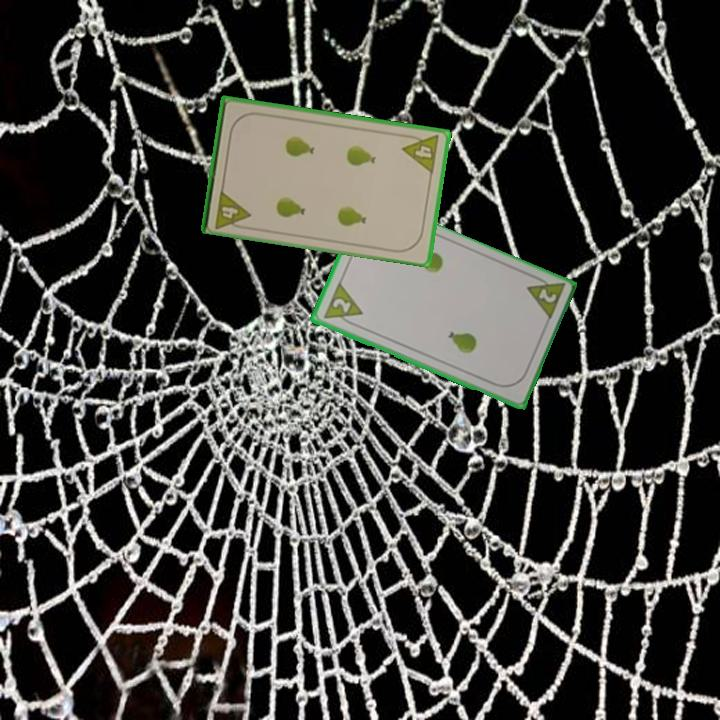2p: (522, 271, 567, 324), (328, 295, 354, 316)
4p: (399, 130, 442, 176), (211, 186, 253, 232)
